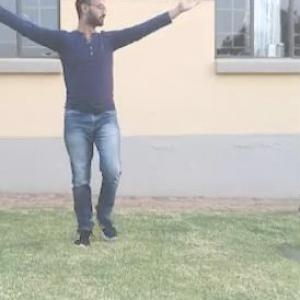takeoff: (0, 0, 202, 238)
